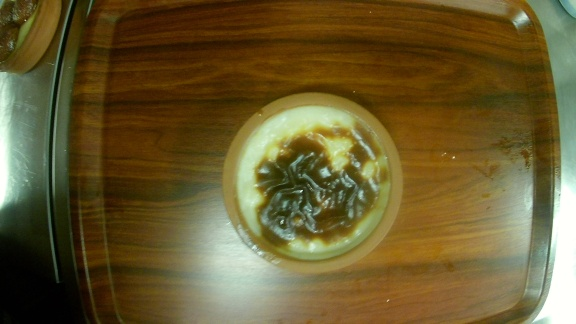sutlac: (223, 92, 405, 273)
